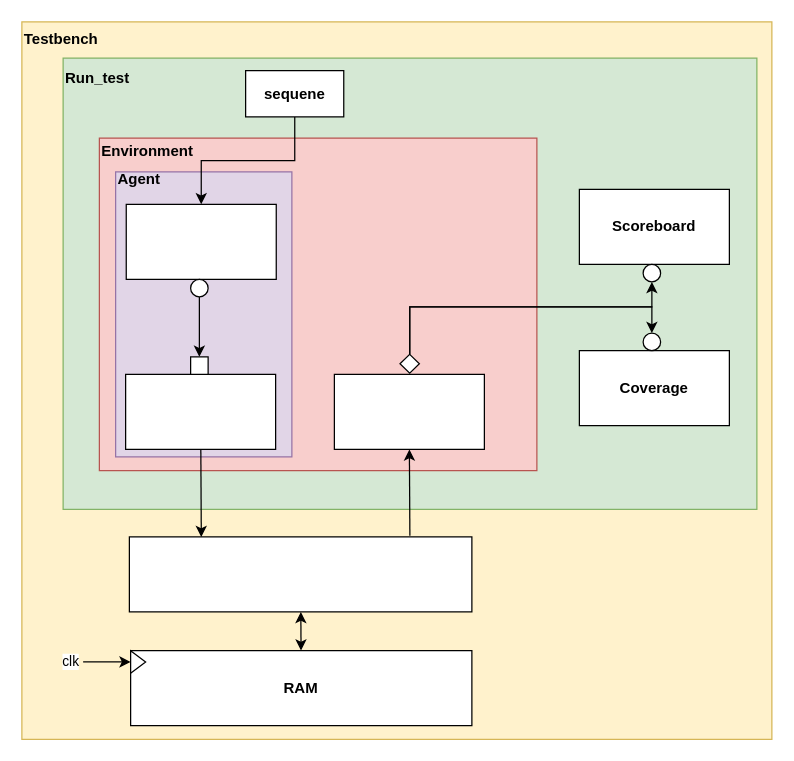
This 794x761 diagram has some shape labels left out. Each missing label, with the centre of its shape:
Driver: pixel 200 411
Moniter: pixel 408 411
ram_interface: pixel 300 574
Sequener: pixel 200 241
